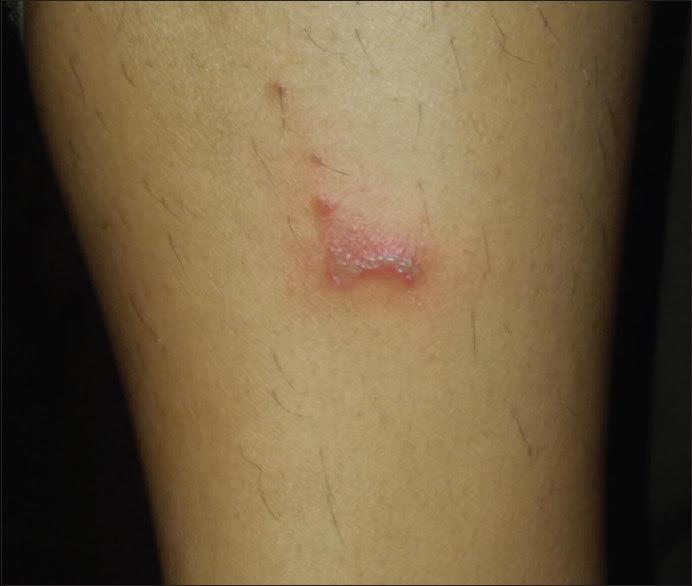Beetle: (286, 178, 438, 304)
